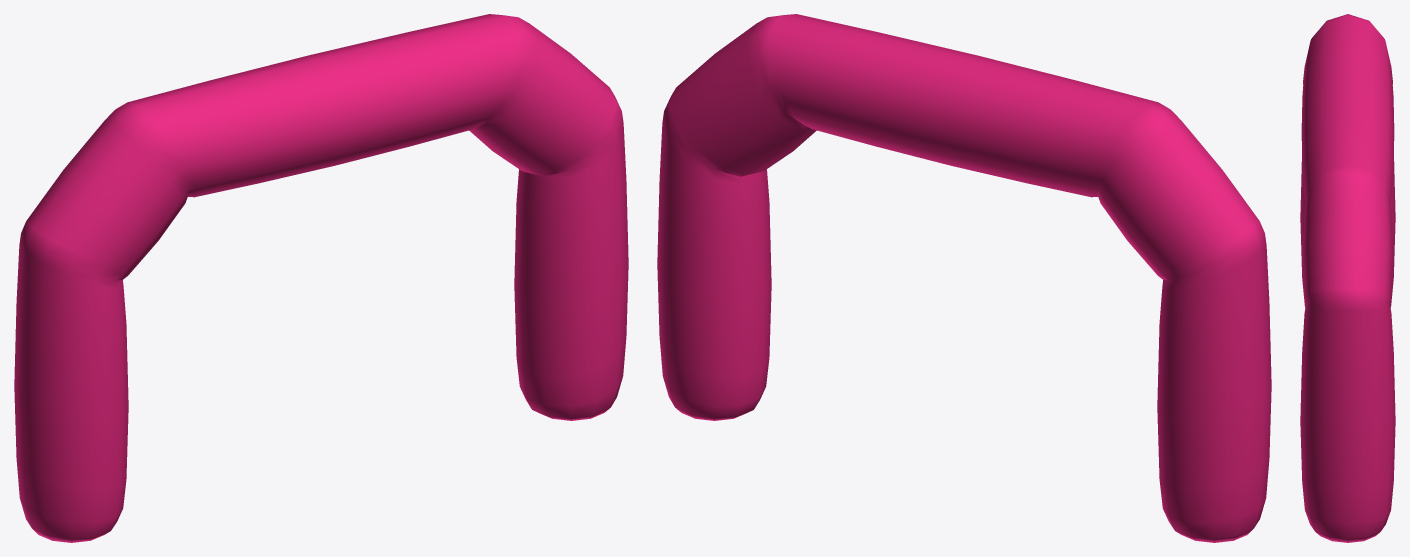
The model's file is checkpoint_002.glb.
3 views of the same model, side by side, from view 1: azimuth 30°, elevation 25°; view 2: azimuth 150°, elevation 25°; view 3: azimuth 270°, elevation 25° (orthographic). The views are drawn at different scales.
Parts seen in each view (by area): view 1: checkpoint_002; view 2: checkpoint_002; view 3: checkpoint_002.
Boxes of the visible parts, x1,y1,x2,y2 form: checkpoint_002: (14, 14, 628, 542); checkpoint_002: (657, 14, 1271, 542); checkpoint_002: (1300, 14, 1395, 542).
Size of the model in its own units: 9.5 by 6.17 by 1.57.
Materials: 1 (1 with a texture image).
